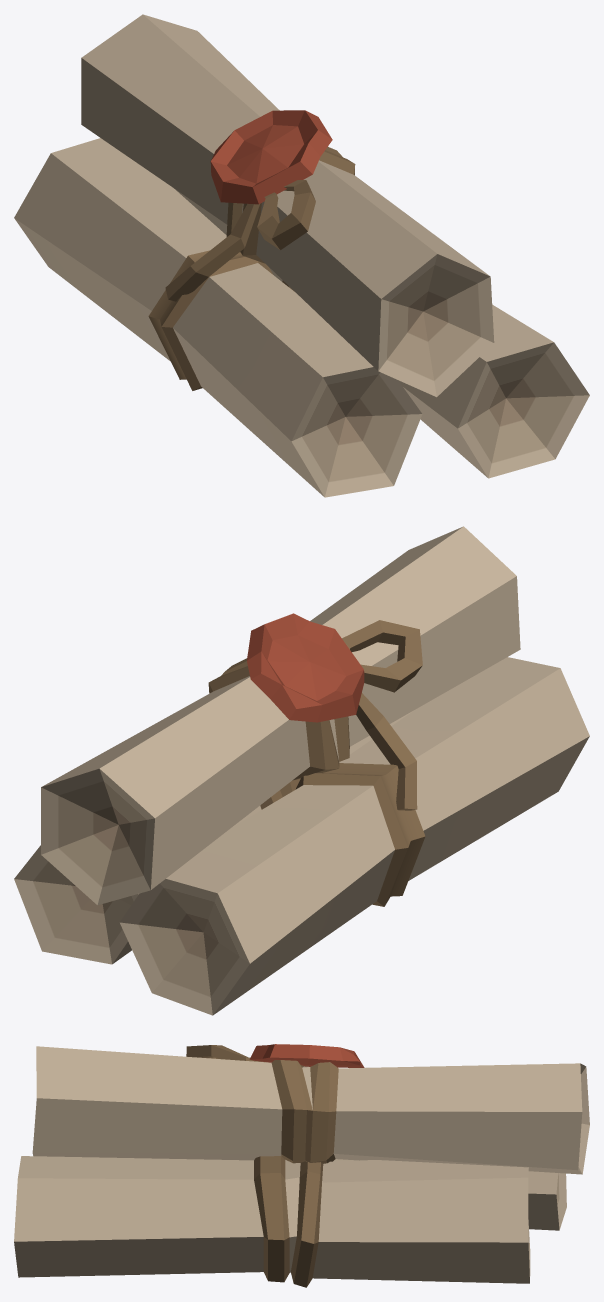
Rendered from crypt_scroll.gltf.
The picture shows the model from 3 angles, top to bottom: view 1: azimuth 30°, elevation 25°; view 2: azimuth 150°, elevation 25°; view 3: azimuth 270°, elevation 25°; orthographic projection. The views are drawn at different scales.
Parts seen in each view (by area): view 1: crypt_scroll; view 2: crypt_scroll; view 3: crypt_scroll.
Boxes of the visible parts, left/top/right/bottom form: crypt_scroll: left=14, top=14, right=589, bottom=497; crypt_scroll: left=14, top=526, right=589, bottom=1015; crypt_scroll: left=14, top=1044, right=589, bottom=1287.
Bounding box in the file's own units: 0.282 × 0.241 × 0.5974.
Materials: 1 (1 with a texture image).
